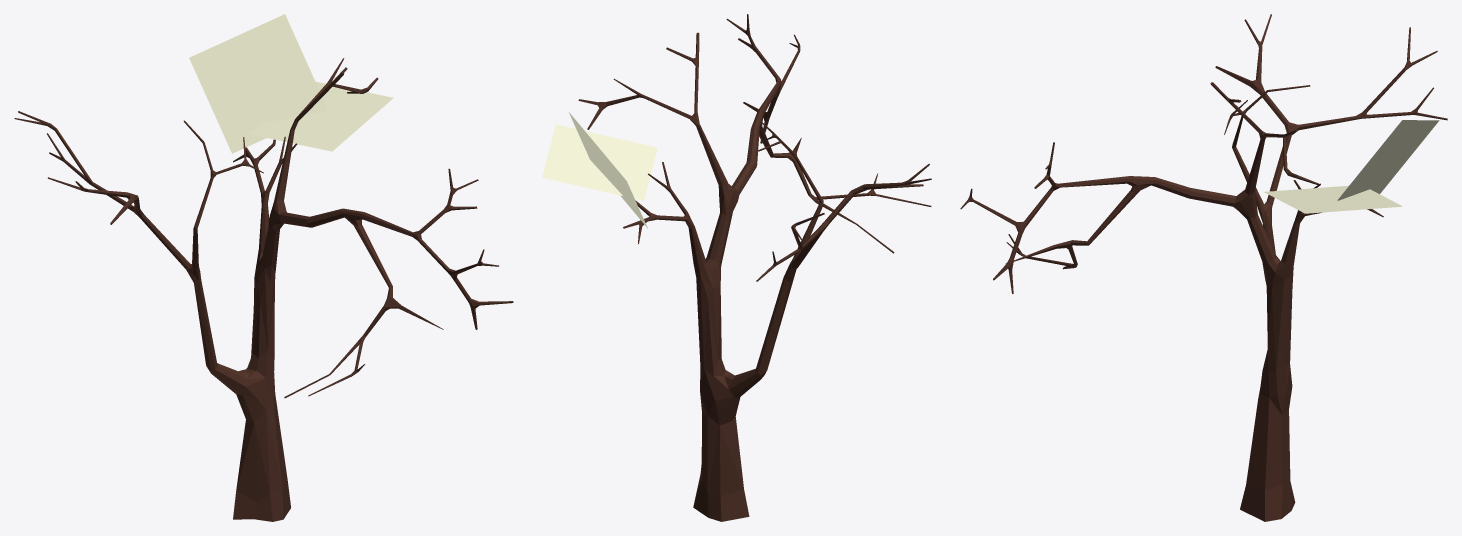
Rendered from TREE LEAF TEST.fbx.
3 renders of one model, left to right at view 1: azimuth 30°, elevation 25°; view 2: azimuth 150°, elevation 25°; view 3: azimuth 270°, elevation 25°, orthographic.
Visible parts, largest first — view 1: Cube.001, Plane.000, Plane.001; view 2: Cube.001, Plane.001, Plane.000; view 3: Cube.001, Plane.000, Plane.001.
Boxes of the visible parts, <box> form: Cube.001: <box>14,58,513,521</box>; Plane.000: <box>189,14,327,153</box>; Plane.001: <box>249,81,393,151</box>; Cube.001: <box>578,14,931,521</box>; Plane.001: <box>542,124,657,200</box>; Plane.000: <box>569,112,647,228</box>; Cube.001: <box>960,14,1447,521</box>; Plane.000: <box>1337,120,1439,200</box>; Plane.001: <box>1264,185,1402,213</box>.
Size of the model in its own units: 793 by 938 by 914.
